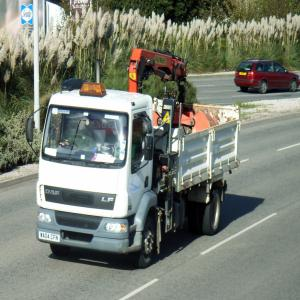Vehicle-registration-plate: (39, 233, 60, 244)
